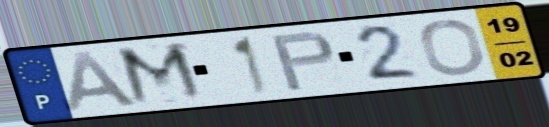1: (229, 32, 271, 98)
2: (355, 22, 423, 87)
A: (63, 50, 145, 114)
M: (112, 40, 211, 109)
O: (417, 17, 489, 77)
P: (267, 29, 338, 93)
